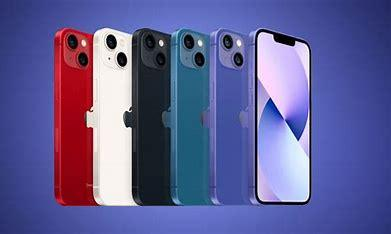-iphone13: (35, 14, 328, 216), (208, 28, 317, 216), (47, 23, 101, 210), (88, 19, 137, 211), (166, 22, 211, 209), (128, 25, 173, 211)
